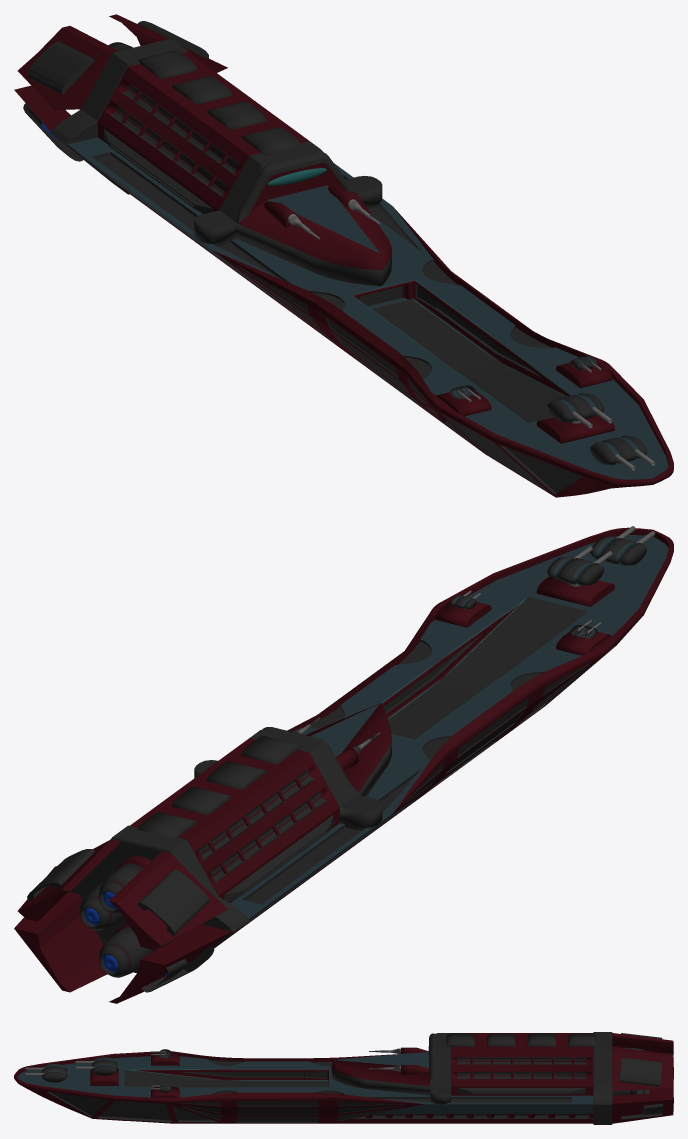
File: assets-game5.glb
The picture shows the model from 3 angles, top to bottom: view 1: azimuth 30°, elevation 25°; view 2: azimuth 150°, elevation 25°; view 3: azimuth 270°, elevation 25°; orthographic projection. The views are drawn at different scales.
Visible parts, largest first — view 1: Object_6, Object_8, Object_2, Object_7, Object_5, Object_9, Object_4; view 2: Object_6, Object_8, Object_2, Object_7, Object_5, Object_4; view 3: Object_6, Object_8, Object_2, Object_7, Object_5, Object_4, Object_9.
Part boxes in pixels (x1=…): Object_6: x1=23, y1=21, x2=646, y2=494; Object_8: x1=14, y1=14, x2=673, y2=497; Object_2: x1=68, y1=137, x2=668, y2=479; Object_7: x1=104, y1=44, x2=673, y2=490; Object_5: x1=371, y1=299, x2=565, y2=422; Object_9: x1=267, y1=168, x2=571, y2=407; Object_4: x1=287, y1=199, x2=655, y2=470; Object_6: x1=27, y1=536, x2=646, y2=992; Object_8: x1=14, y1=527, x2=673, y2=1003; Object_2: x1=230, y1=535, x2=668, y2=924; Object_7: x1=90, y1=547, x2=673, y2=969; Object_5: x1=388, y1=597, x2=588, y2=739; Object_4: x1=293, y1=526, x2=655, y2=754; Object_6: x1=41, y1=1032, x2=663, y2=1124; Object_8: x1=14, y1=1033, x2=673, y2=1123; Object_2: x1=17, y1=1051, x2=593, y2=1113; Object_7: x1=14, y1=1046, x2=644, y2=1120; Object_5: x1=124, y1=1070, x2=328, y2=1087; Object_4: x1=25, y1=1048, x2=400, y2=1089; Object_9: x1=125, y1=1046, x2=428, y2=1087.
Size of the model in its own units: 6.09 by 4.3 by 32.48.
